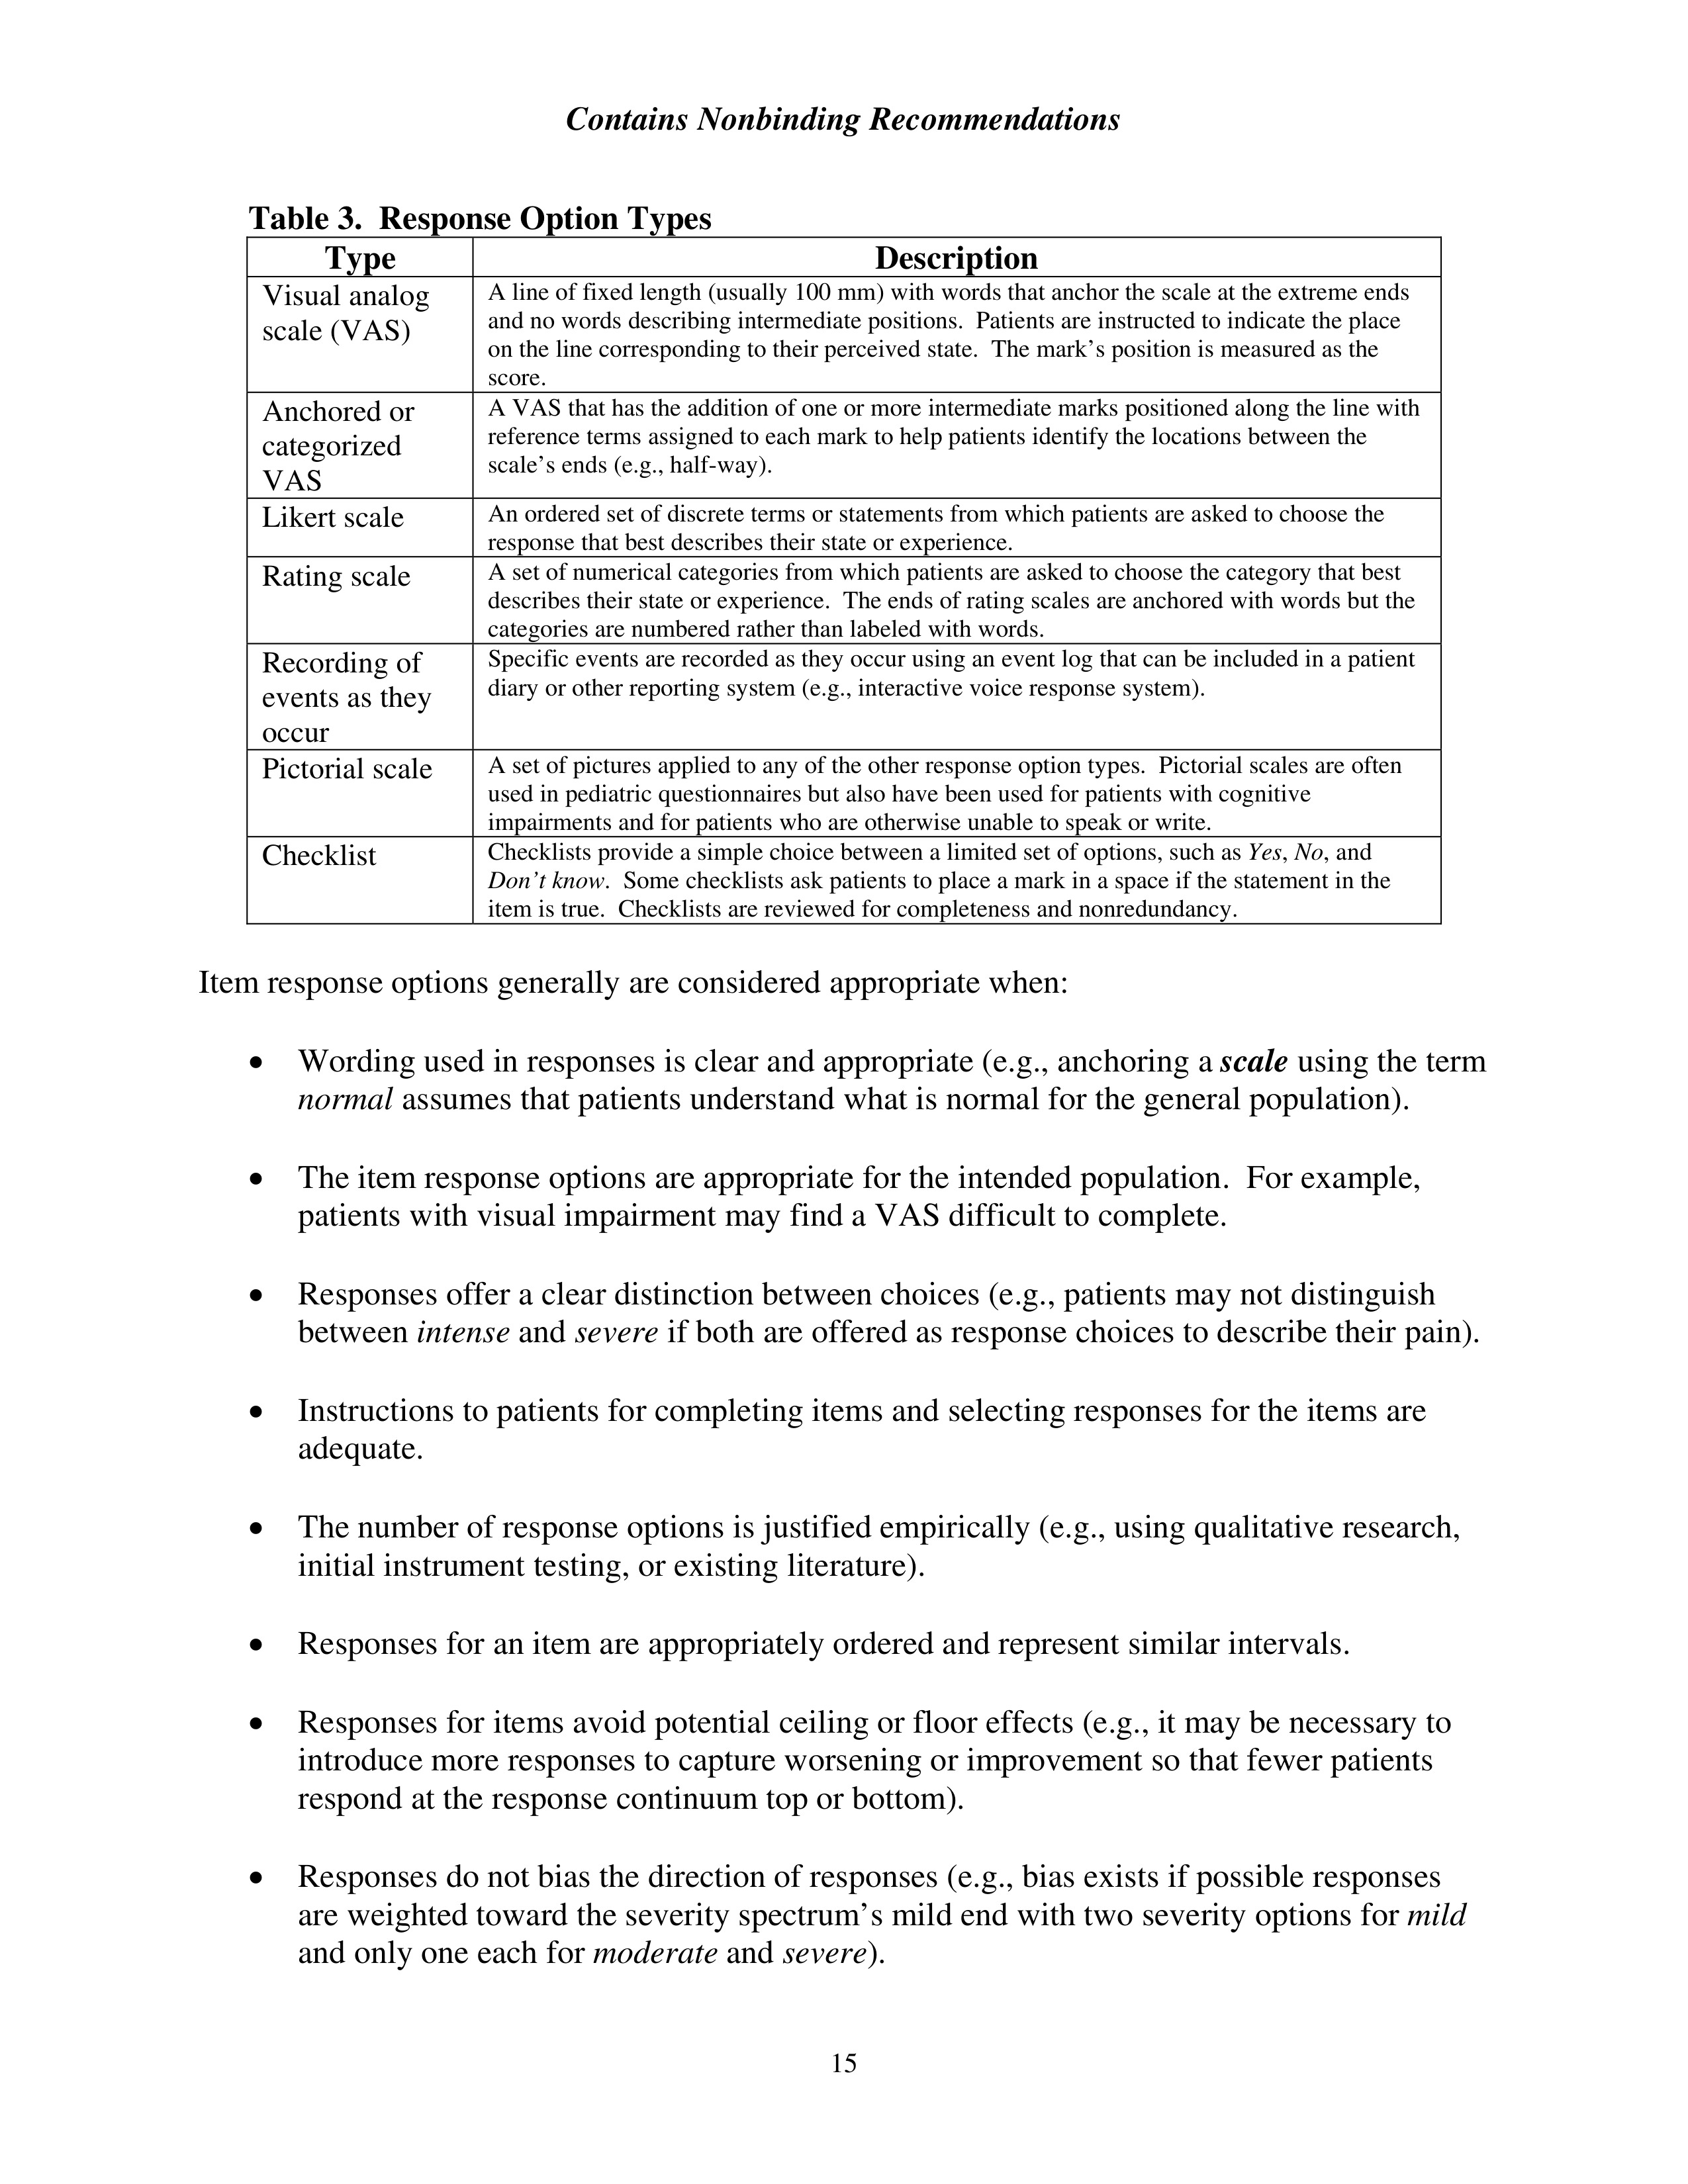table: (261, 234, 1420, 924)
